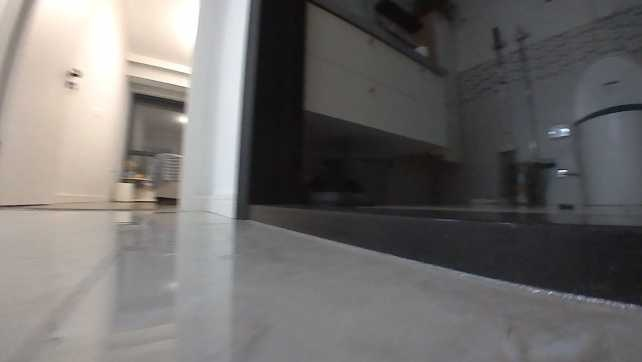door_sill: (249, 200, 640, 309)
toilet: (569, 46, 640, 206)
